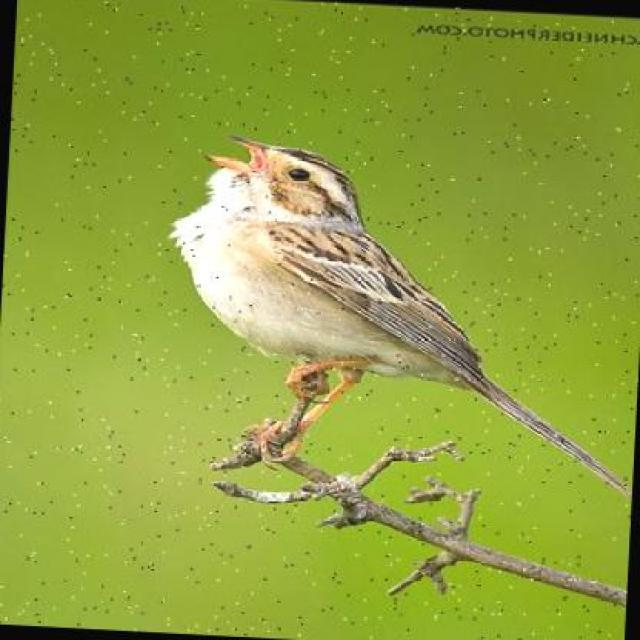Bird: (168, 127, 628, 516)
